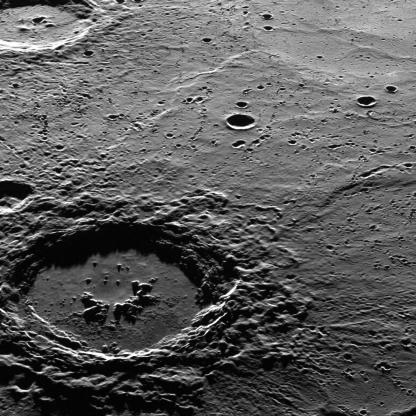craters: (2, 207, 256, 380), (0, 0, 114, 79), (65, 261, 163, 321), (2, 170, 48, 216), (345, 88, 388, 113), (221, 109, 267, 132), (223, 139, 253, 153), (229, 97, 251, 112), (260, 24, 282, 38)
